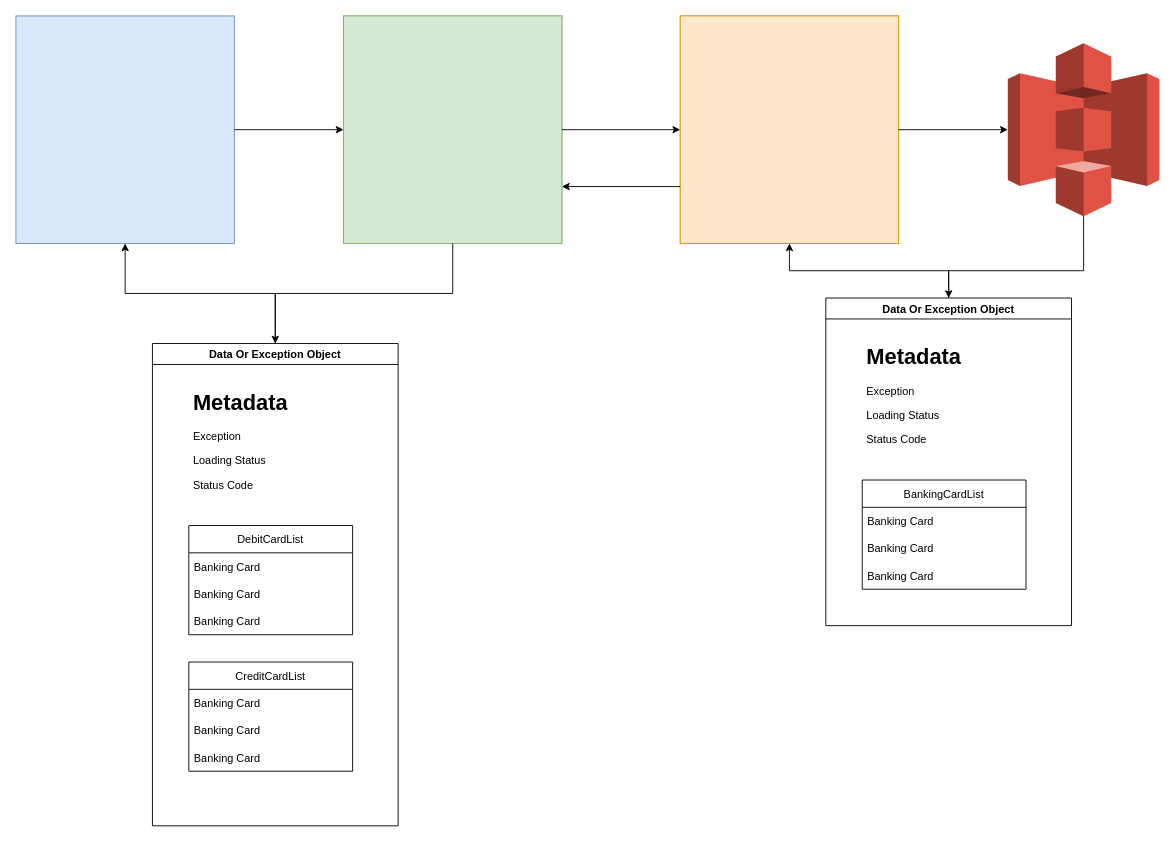
This 1176x842 diagram has some shape labels left out. Here are the shapes that lost their labels. From the top down, the centre of each, then its label:
At (124,129): "ViewModel Observable, responsible of getting data from AWS.".
At (452,129): "Repository In charge of calling API and business logic.".
At (789,129): "BankingApi In charge of calling API and business logic.".
